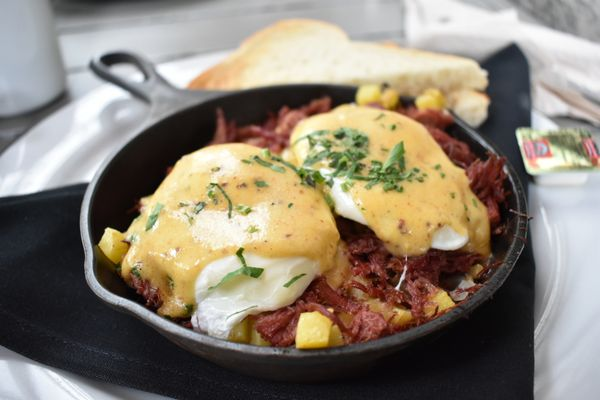pizza: (0, 0, 67, 119)
sushi: (78, 81, 519, 383)
